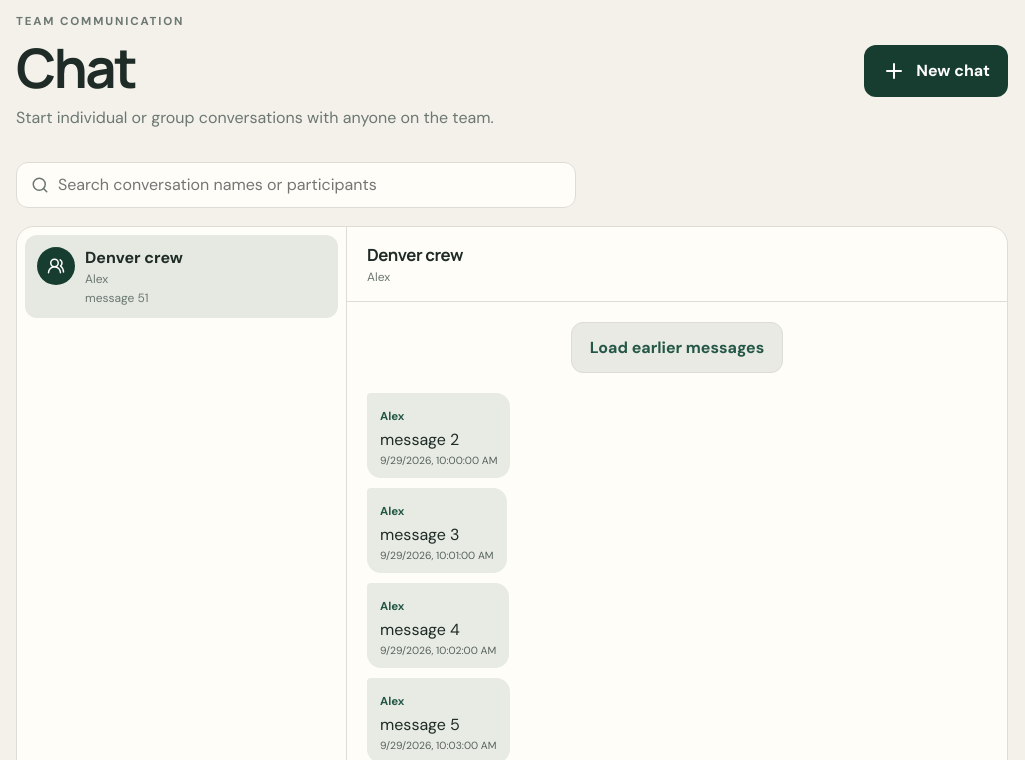
Test case: ChatPage pagination › loads summaries and only the selected thread's messages, then de-duplicates earlier pages
Expected: the text "Denver crew" is shown 2 times, [85,247,183,268]; [367,243,463,266]
Expected: the text "message 2" is shown, [380,429,459,450]
Click the button "Load earlier messages" at (677, 347), box [571,322,783,373]
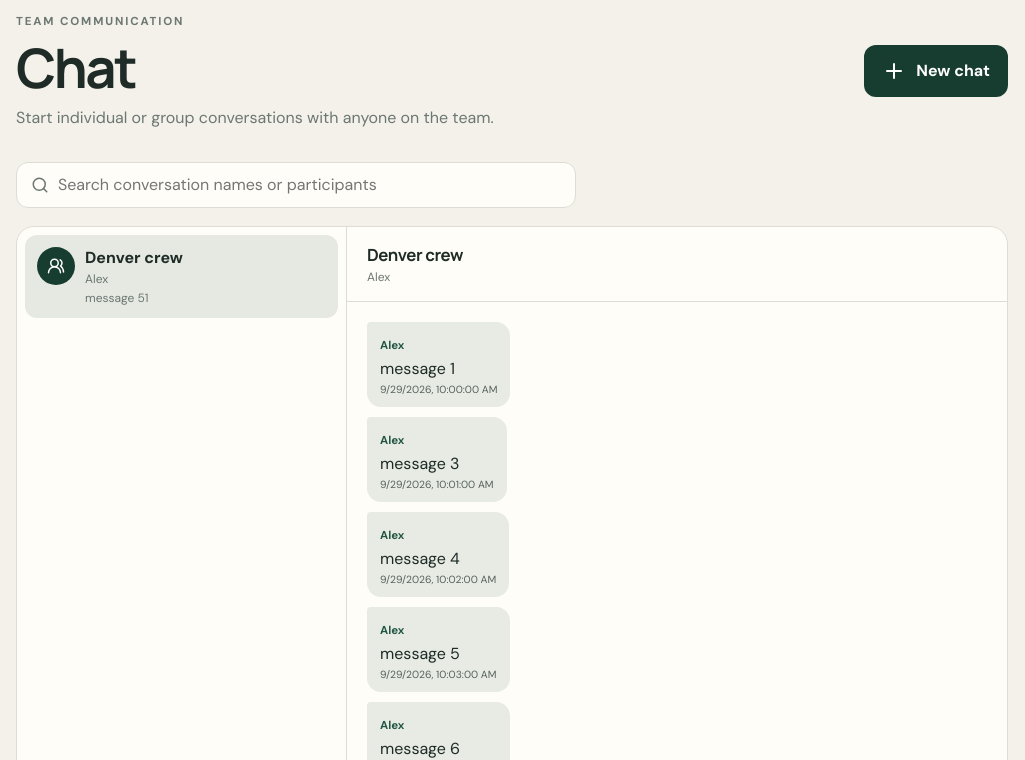
Expected: the text "message 1" is shown, [380,358,455,379]
